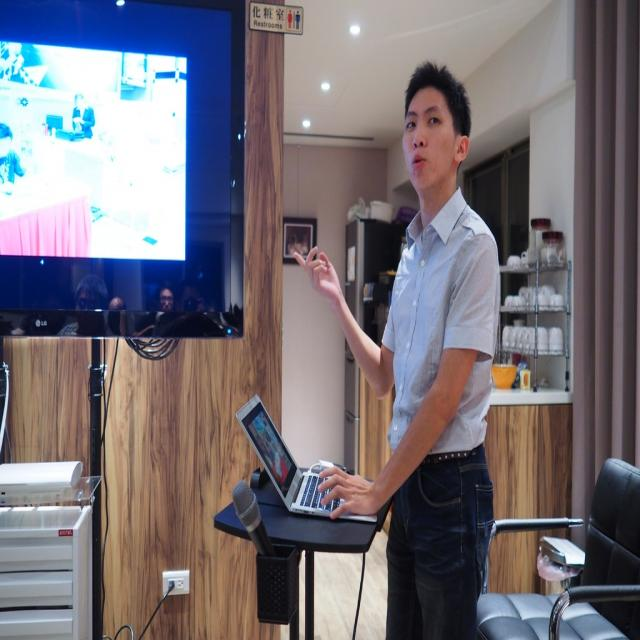chair: (477, 457, 639, 638)
desk: (217, 409, 412, 595)
laptop: (234, 392, 355, 521)
person: (291, 62, 500, 639), (57, 272, 109, 335), (156, 285, 176, 310)
tv: (1, 2, 240, 298)
